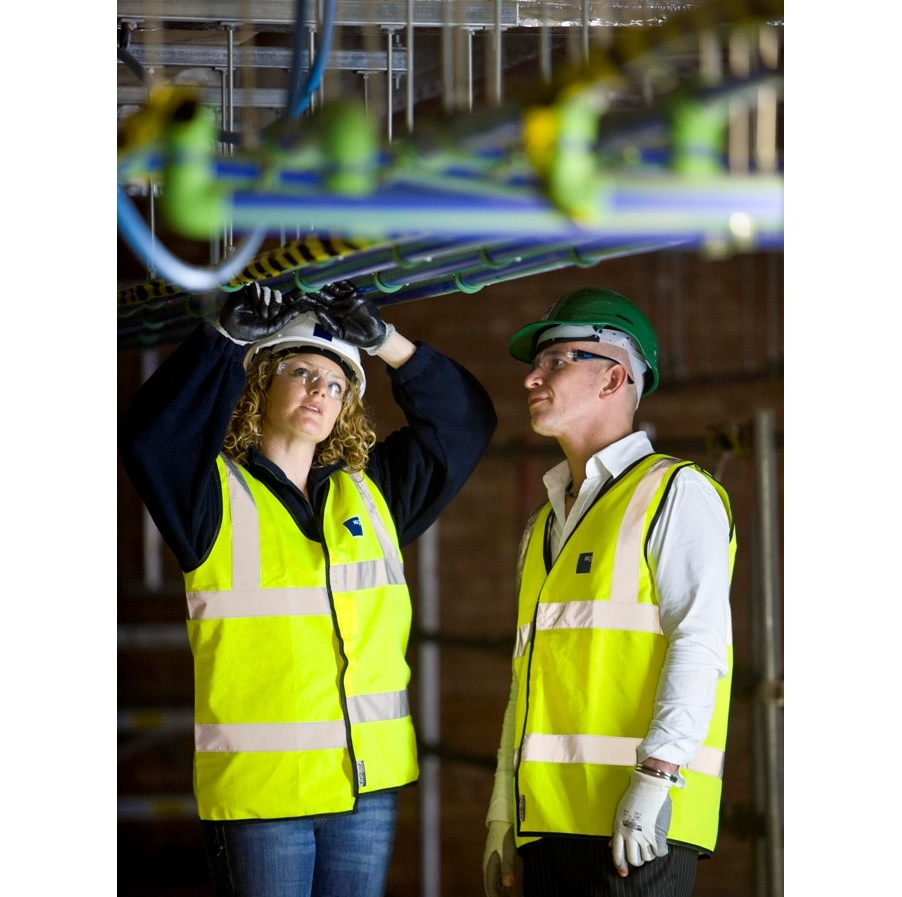Hard Hat: (510, 287, 668, 363), (248, 312, 379, 361)
High Viz: (508, 451, 685, 804), (213, 456, 411, 763)
